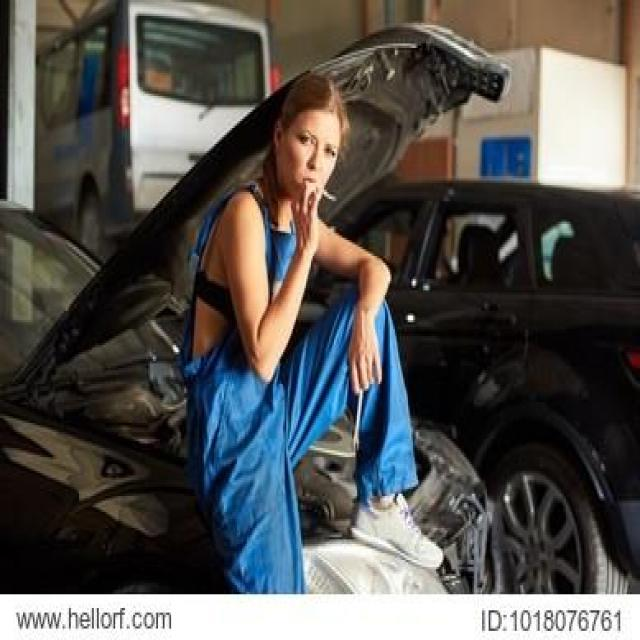Сигарета: (315, 182, 337, 207)
Тело: (186, 77, 439, 596)
